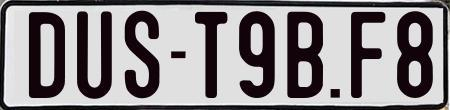8: (395, 10, 434, 97)
9: (236, 8, 273, 97)
B: (286, 9, 328, 95)
D: (27, 12, 69, 101)
F: (349, 12, 383, 99)
S: (124, 11, 160, 99)
T: (193, 10, 228, 101)
U: (75, 8, 115, 101)
